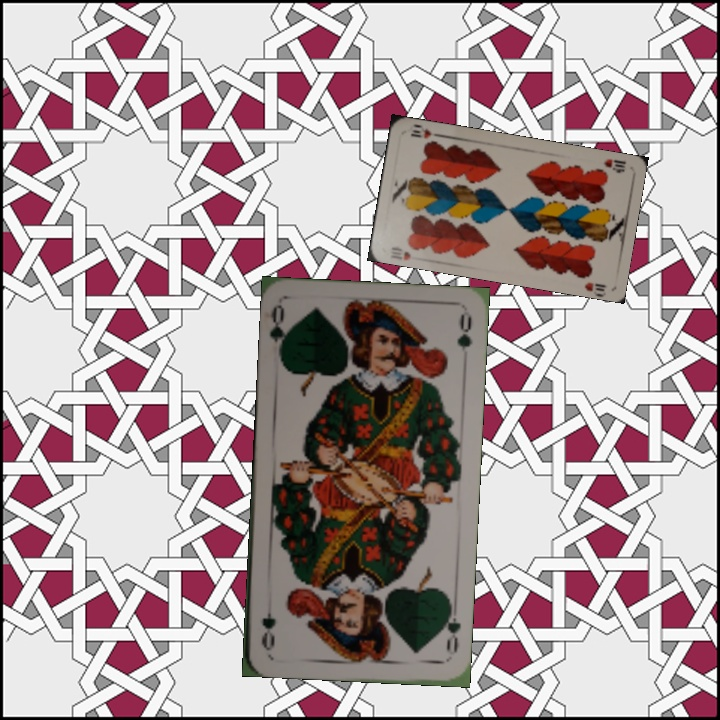GO: (266, 302, 293, 361), (437, 601, 464, 655)
H10: (599, 155, 628, 176), (387, 242, 413, 262)
